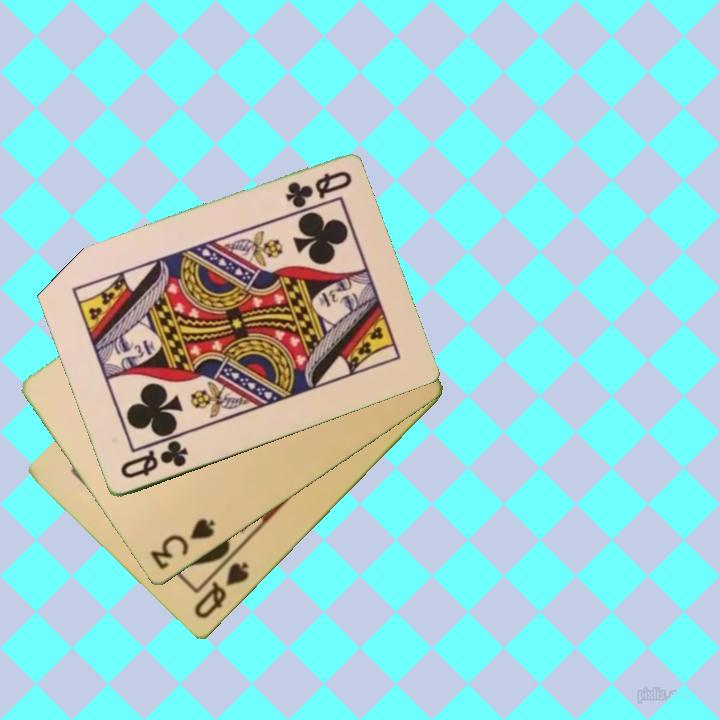3s: (146, 515, 218, 574)
Qc: (116, 437, 191, 482), (281, 168, 355, 211)
Qs: (190, 558, 252, 623)
